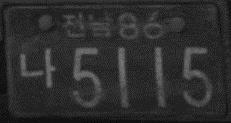1: (114, 45, 133, 111), (152, 44, 169, 109)
5: (180, 44, 213, 108), (71, 45, 104, 107)
6: (143, 8, 164, 40)
8: (118, 10, 140, 40)
나: (18, 46, 55, 89)
전남_O: (61, 10, 114, 38)
